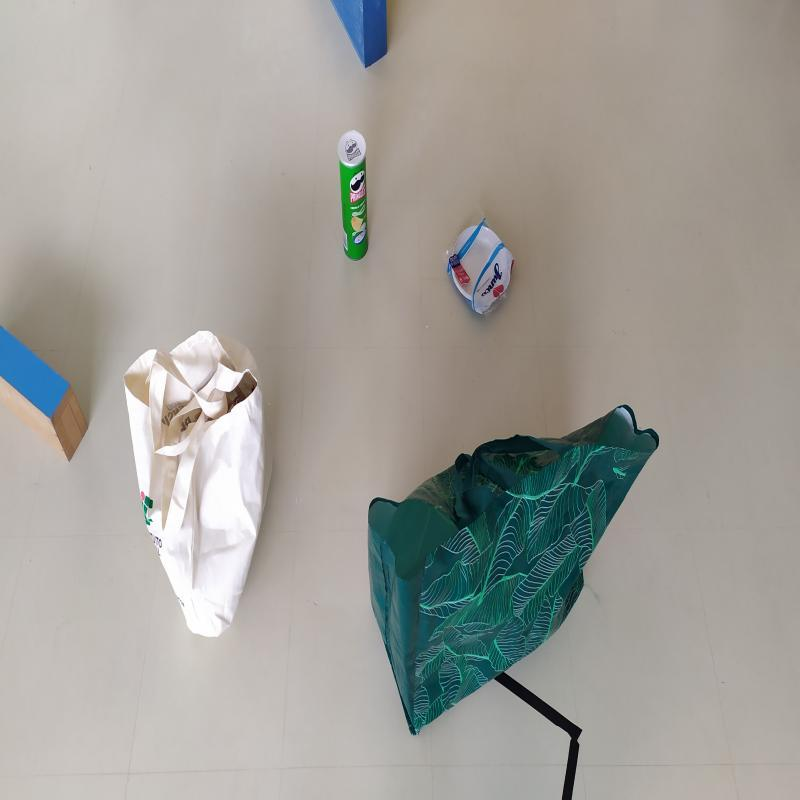Bag: (364, 397, 664, 746), (119, 324, 273, 644)
Plate: (449, 218, 514, 321)
Pringles: (337, 129, 370, 264)
